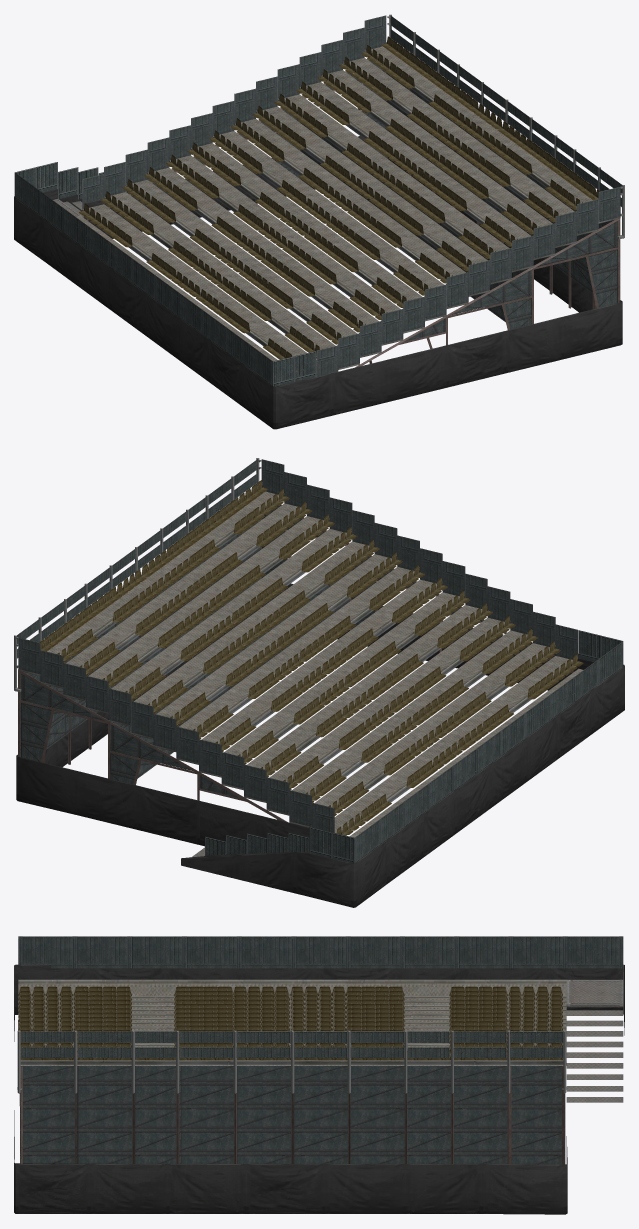
Rendered from curvasud.obj.
3 views of the same model, one above another, from view 1: azimuth 30°, elevation 25°; view 2: azimuth 150°, elevation 25°; view 3: azimuth 270°, elevation 25° (orthographic). The views are drawn at different scales.
Visible parts, largest first — view 1: Curva_Sud; view 2: Curva_Sud; view 3: Curva_Sud.
Part boxes in pixels (x1,y1,x2,y2): Curva_Sud: (14,14,624,429); Curva_Sud: (14,458,624,907); Curva_Sud: (14,936,624,1214).
Bounding box in the file's own units: 15.73 × 6.7 × 20.12.
